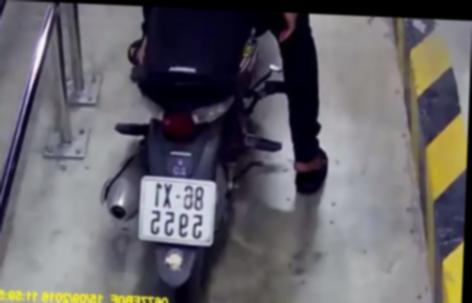License_Plate: (131, 172, 229, 250)
